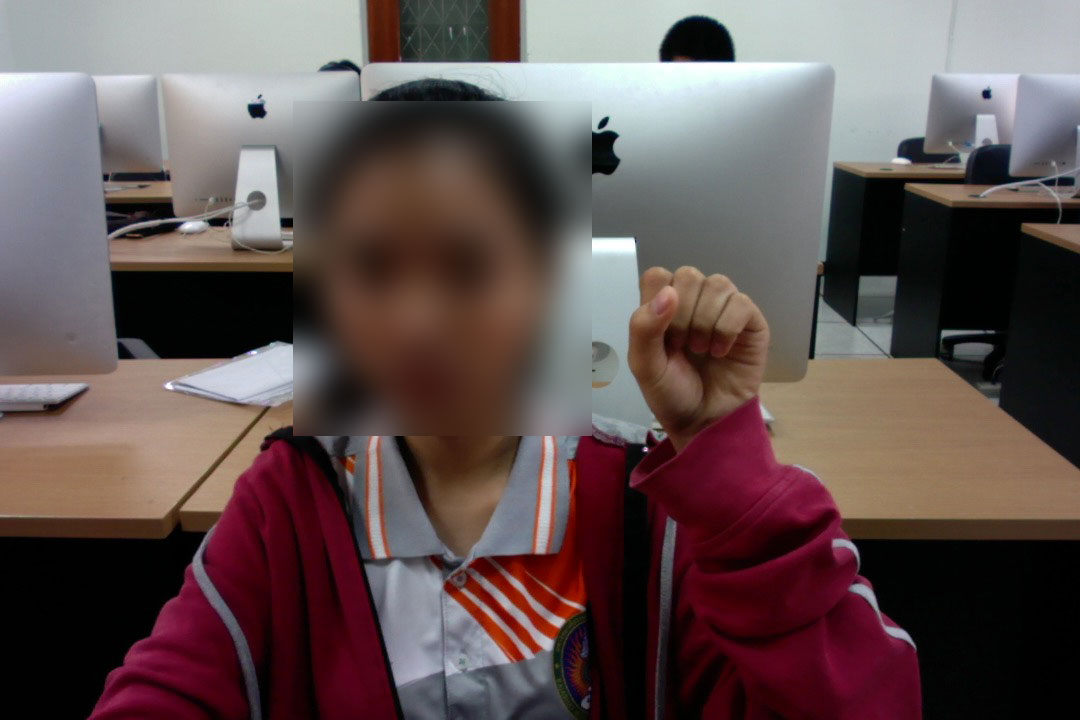sor: (619, 254, 775, 449)
